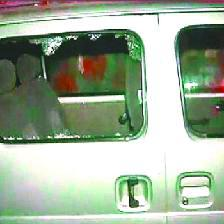glass_shatter: (4, 31, 157, 146)
